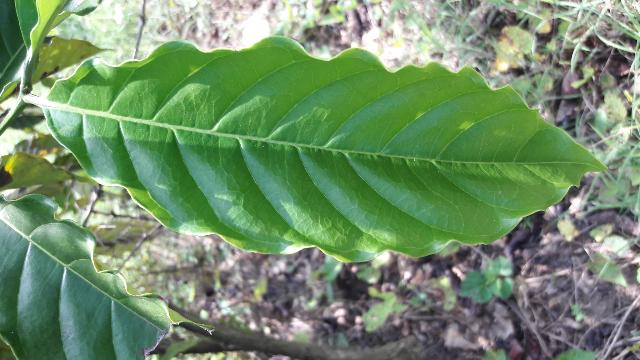healthy: (45, 37, 606, 264)
